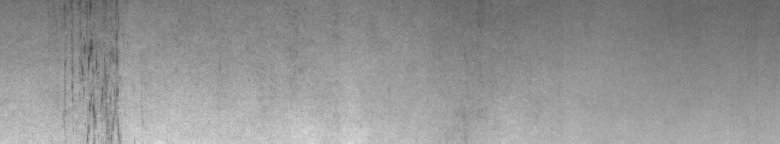ka: (64, 4, 124, 136)
